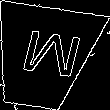M_S: (8, 28, 78, 86)
